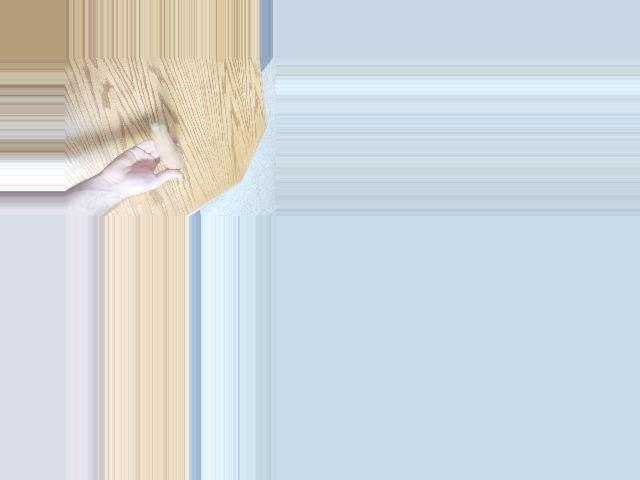sweet_potato: (148, 122, 182, 173)
